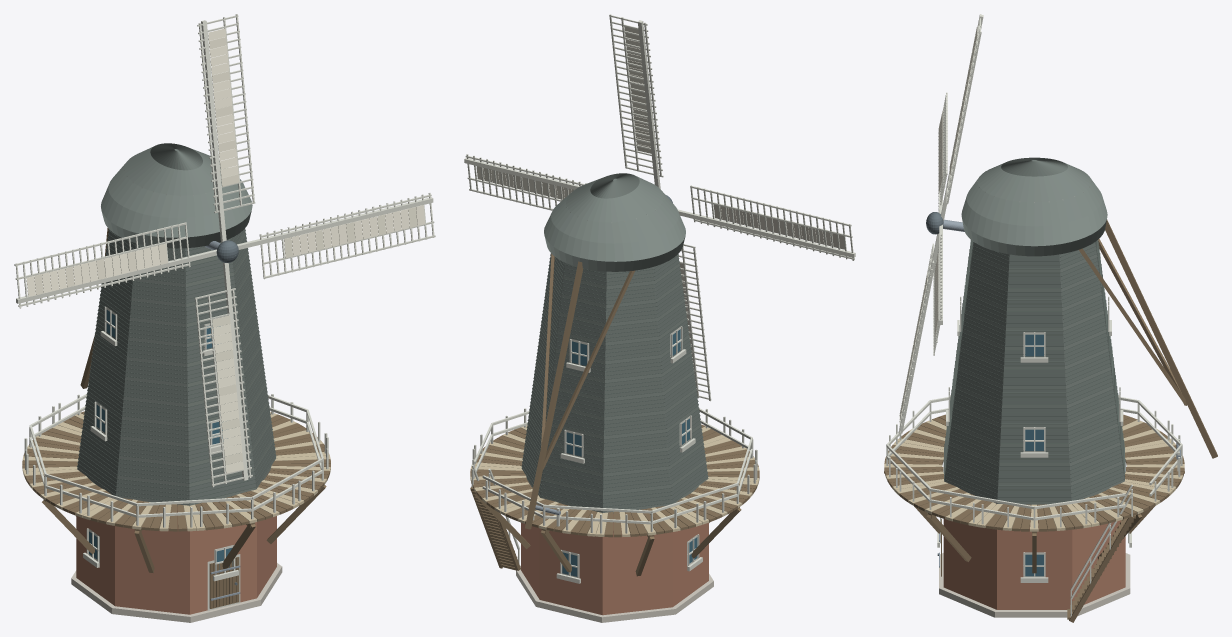
File: source.glb
The picture shows the model from 3 angles, left to right: view 1: azimuth 30°, elevation 25°; view 2: azimuth 150°, elevation 25°; view 3: azimuth 270°, elevation 25°; orthographic projection. The views are drawn at different scales.
Parts seen in each view (by area): view 1: worldgen; view 2: worldgen; view 3: worldgen.
Part boxes in pixels (bbox=[...]): worldgen: bbox=[14, 14, 435, 622]; worldgen: bbox=[464, 14, 855, 622]; worldgen: bbox=[884, 14, 1217, 622].
Bounding box in the file's own units: 23 × 30.54 × 16.44.
